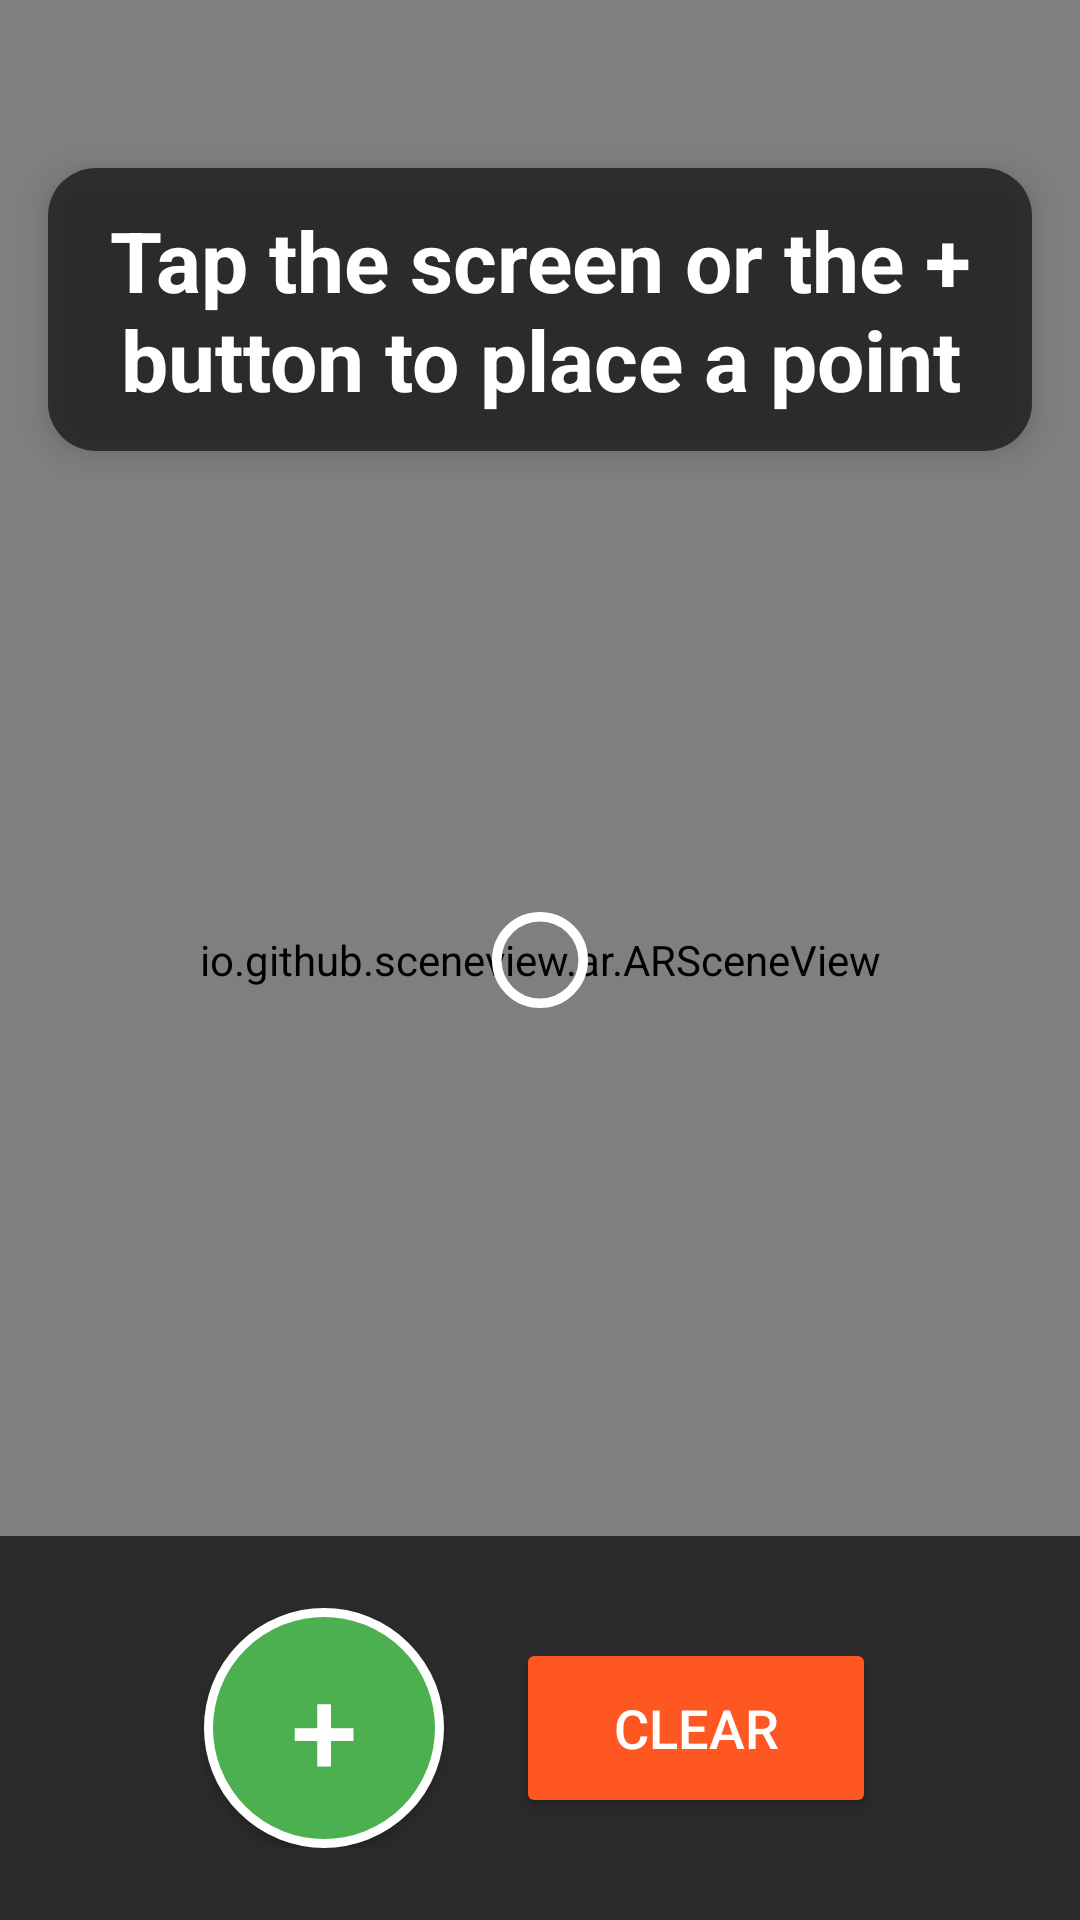

Named icons in this screenshot (1080px×1920px) and their centers, point (x, y):
Center reticle for aiming: point (540, 960)
